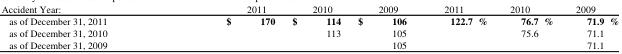table: (0, 1, 618, 50)
table column: (0, 1, 166, 50), (166, 1, 282, 50), (348, 1, 424, 50), (424, 1, 498, 50), (282, 1, 348, 50), (498, 1, 563, 50), (563, 1, 618, 50)
table column header: (0, 1, 618, 13)
table row: (0, 13, 618, 26), (0, 1, 618, 13), (0, 26, 618, 38), (0, 38, 618, 50)
